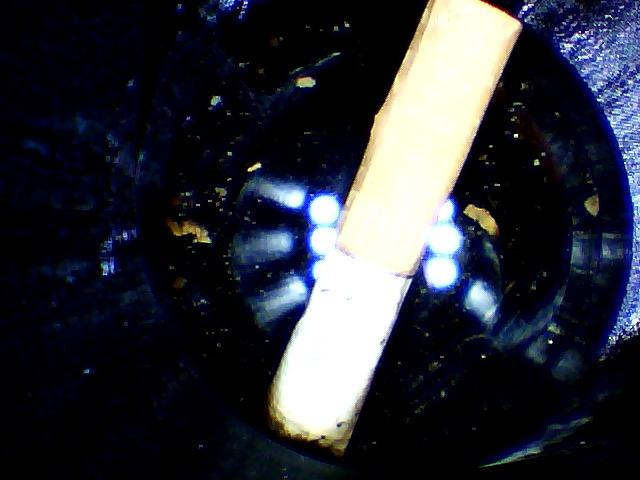megot: (258, 1, 528, 457)
